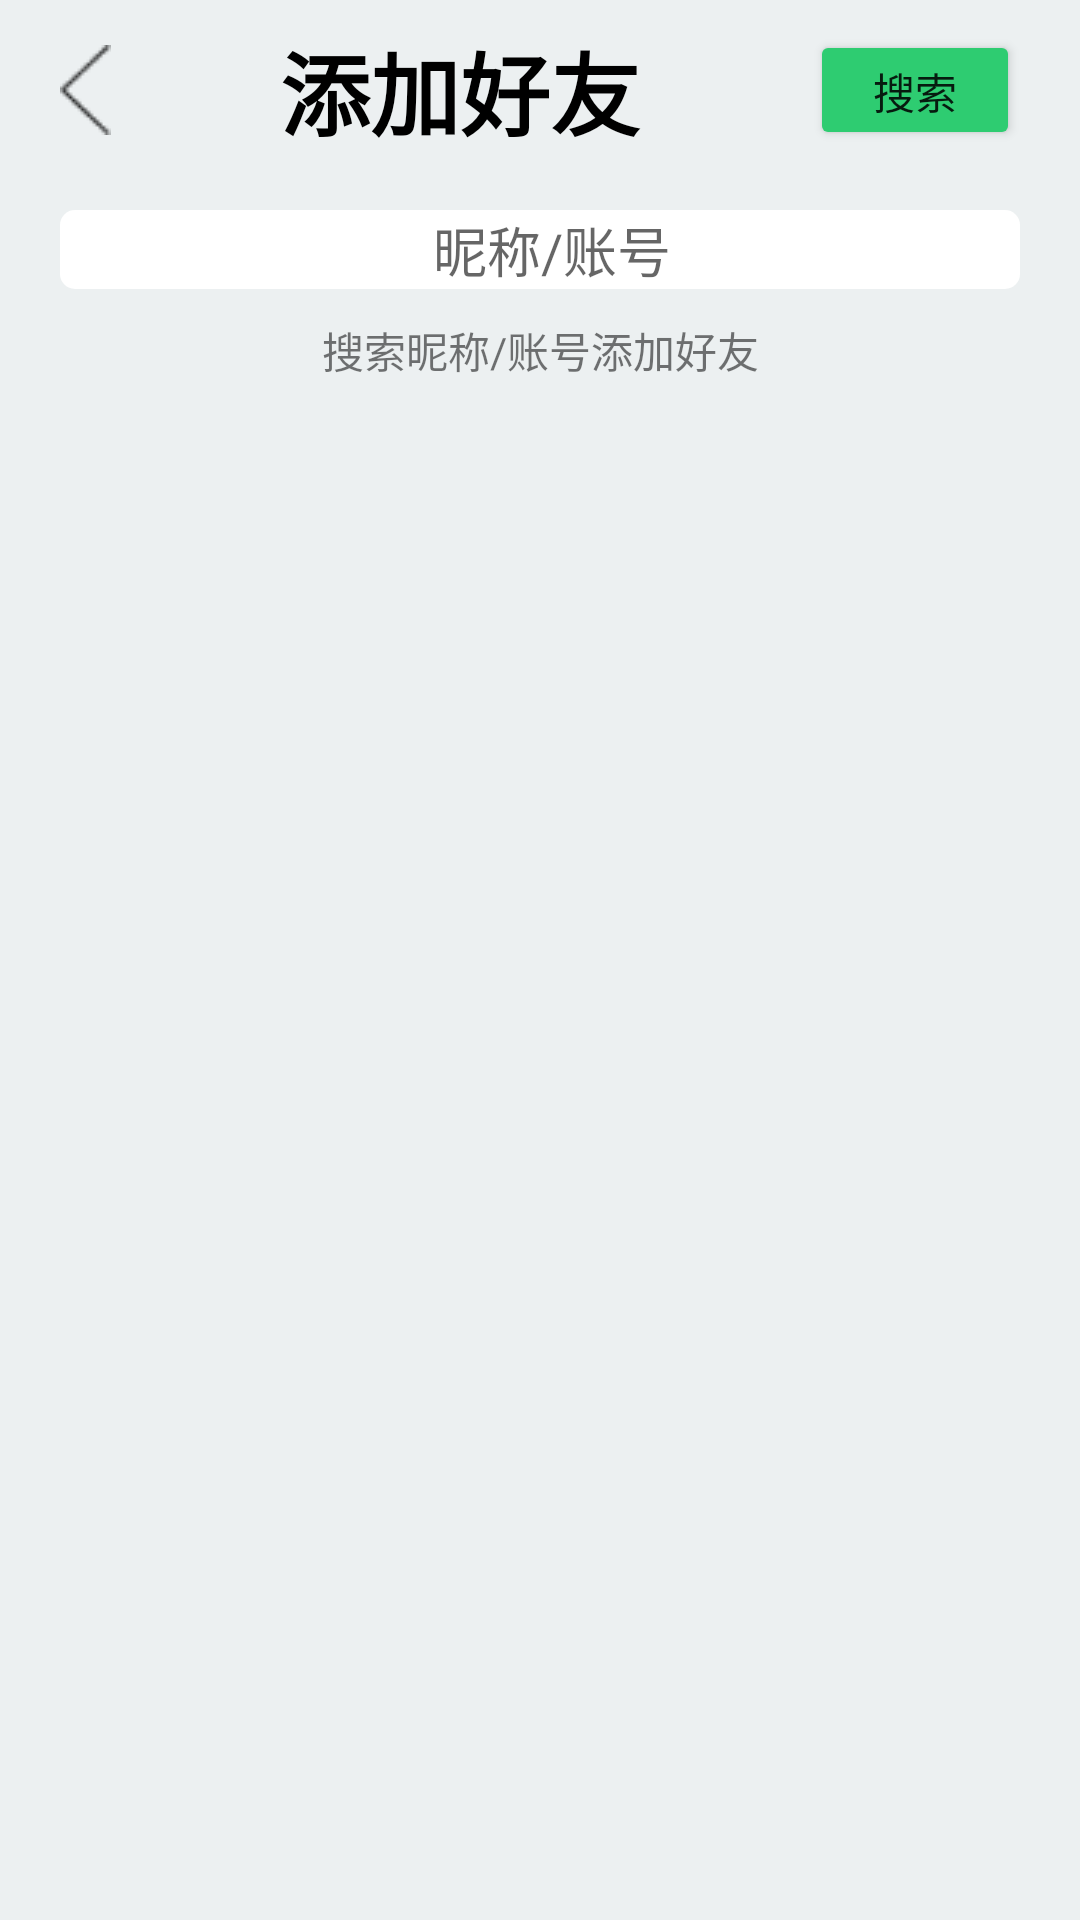

Screen size 1080px×1920px. Icon name, then its center in pixels as (x,y):
less: (85,90)
